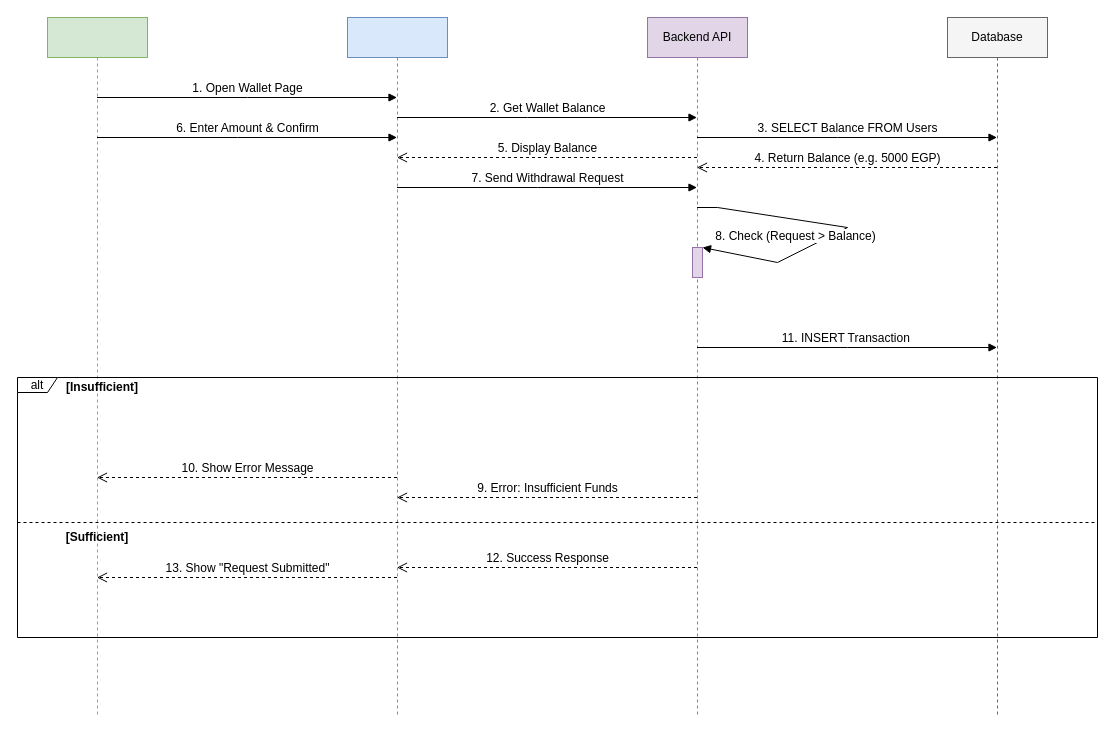
Some shapes in this 1115 by 735 pixel diagram are drawn without their labels. Each missing label, with the box of its shape:
Freelancer: (46, 16, 148, 718)
Frontend App: (346, 16, 448, 718)
